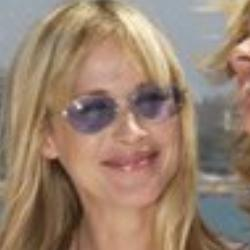face: (13, 4, 216, 244)
